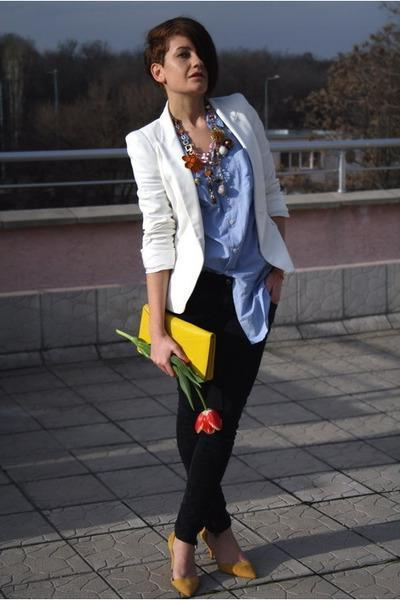jacket: (124, 93, 294, 316)
short sleeve shirt: (173, 103, 273, 348)
trousers: (159, 264, 286, 534)
